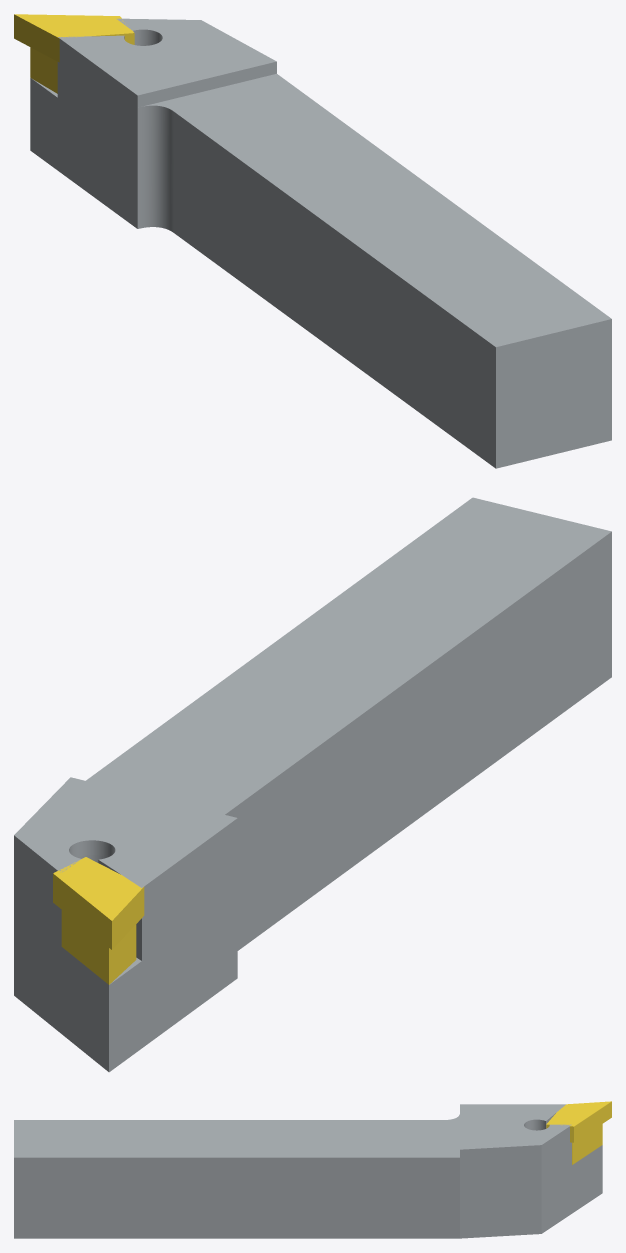
File: Finished tool.fbx
3 views of the same model, one above another, from view 1: azimuth 30°, elevation 25°; view 2: azimuth 150°, elevation 25°; view 3: azimuth 270°, elevation 25° (orthographic). The views are drawn at different scales.
Visible parts, largest first — view 1: imagetostl_mesh0, imagetostl_mesh1; view 2: imagetostl_mesh0, imagetostl_mesh1; view 3: imagetostl_mesh0, imagetostl_mesh1.
Part boxes in pixels (box(x1,y1,x2,y2)): imagetostl_mesh0: box(30, 18, 611, 468); imagetostl_mesh1: box(14, 14, 134, 93); imagetostl_mesh0: box(14, 497, 611, 1072); imagetostl_mesh1: box(53, 857, 144, 984); imagetostl_mesh0: box(14, 1104, 602, 1238); imagetostl_mesh1: box(546, 1101, 611, 1164).
Size of the model in its own units: 641 by 550 by 3352.
